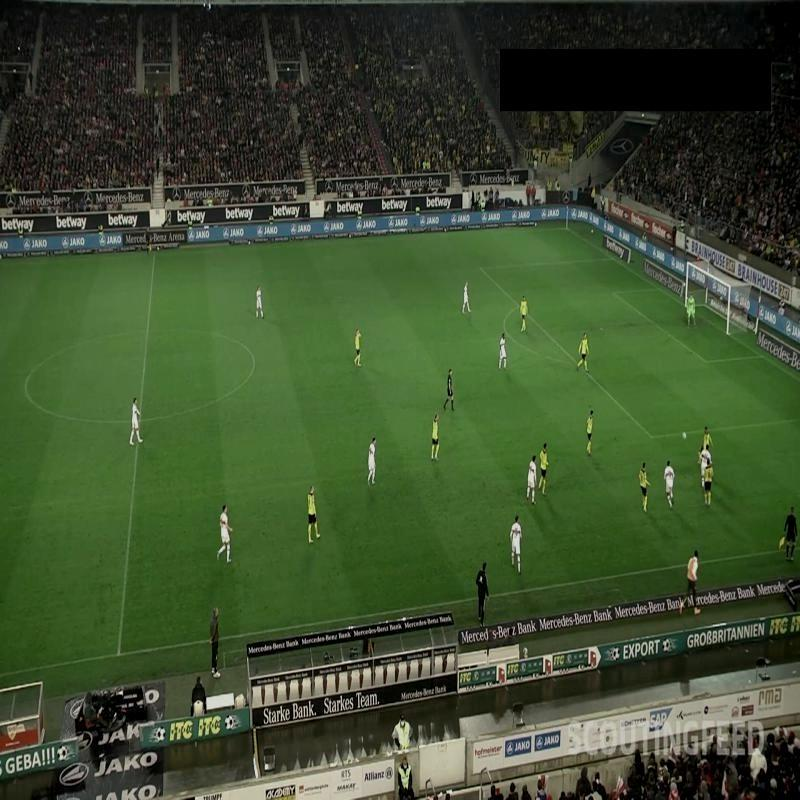1: (560, 222, 574, 236)
10: (512, 301, 526, 315)
11: (570, 357, 585, 371)
12: (646, 430, 660, 444)
13: (148, 246, 162, 260)
14: (140, 324, 156, 338)
15: (132, 412, 150, 430)
16: (104, 635, 136, 671), (250, 769, 264, 783)
2: (606, 252, 620, 266)
3: (652, 280, 666, 294)
4: (756, 351, 770, 364)
7: (607, 286, 621, 299)
8: (700, 353, 714, 367)
9: (474, 260, 488, 274)
c: (244, 354, 264, 371), (18, 380, 34, 394)
